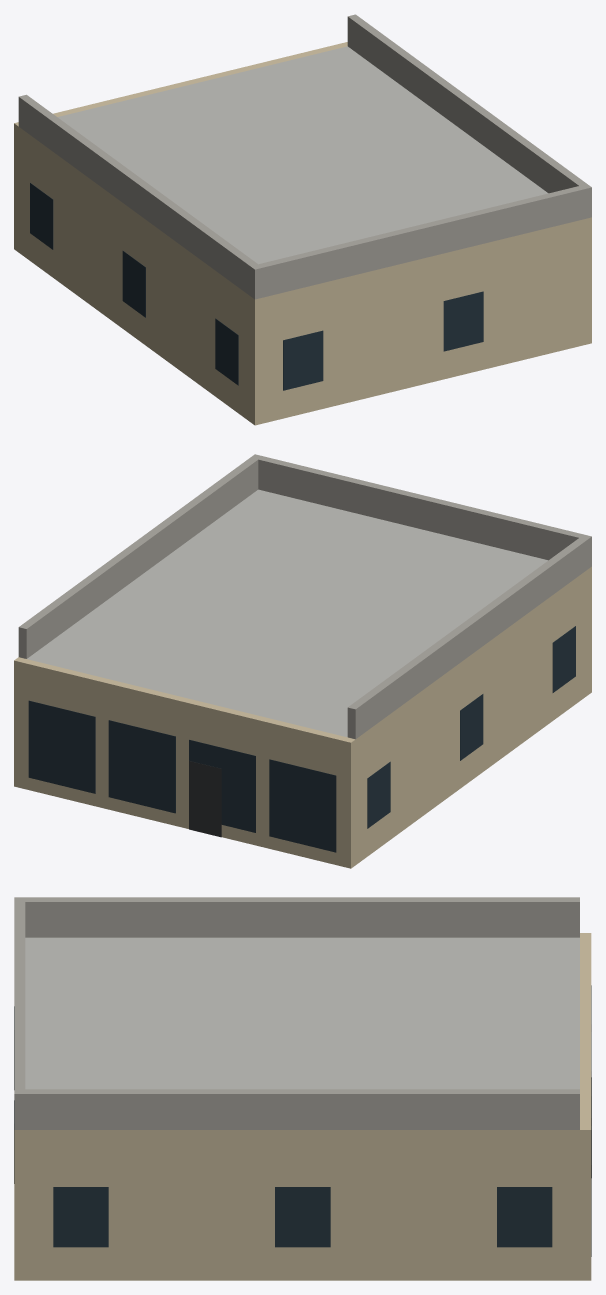
File: bld_t1_shop_quest.glb
3 renders of one model, top to bottom at view 1: azimuth 30°, elevation 25°; view 2: azimuth 150°, elevation 25°; view 3: azimuth 270°, elevation 25°, orthographic. The views are drawn at different scales.
Parts seen in each view (by area): view 1: bld_t1_shop_quest-col; view 2: bld_t1_shop_quest-col; view 3: bld_t1_shop_quest-col.
Boxes of the visible parts, bbox=[...] form: bld_t1_shop_quest-col: bbox=[14, 14, 591, 425]; bld_t1_shop_quest-col: bbox=[14, 454, 591, 868]; bld_t1_shop_quest-col: bbox=[14, 897, 591, 1280].
Size of the model in its own units: 12.62 by 5.57 by 15.63.
